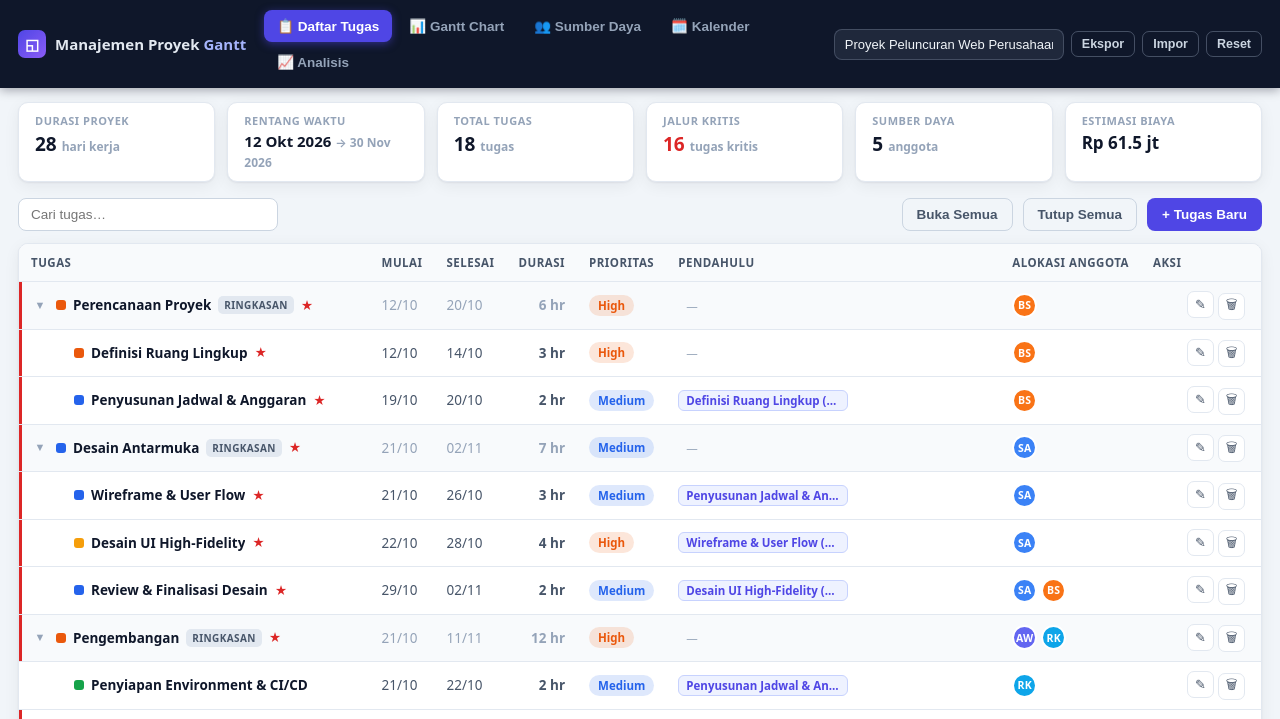
Test: App (smoke) › CRUD tugas: menambah tugas baru tersimpan ke localStorage
This screenshot has width=1280, height=719.
Click the button "+ Tugas Baru" at (1205, 214), box [1147,198,1262,231]
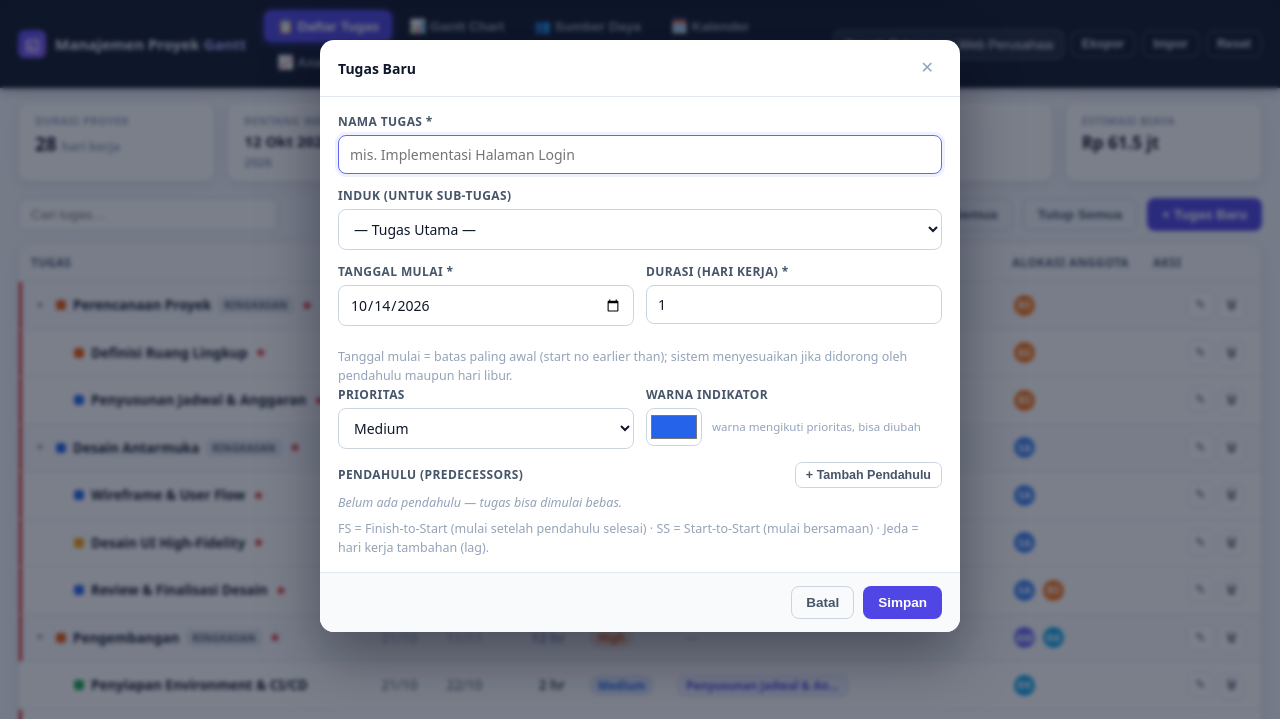
Type "Tugas Smoke Test" into the field labelled "Nama Tugas *" at (640, 154), box [338,135,942,174]
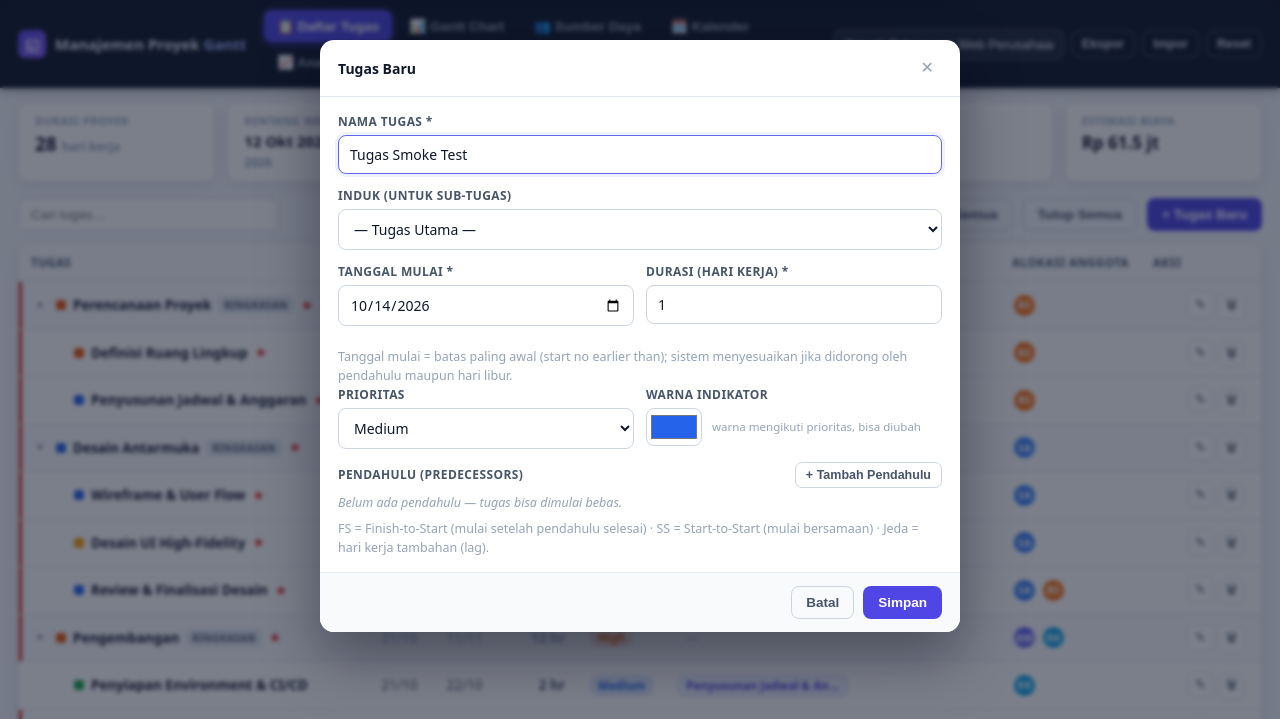
Replace the text in the number field labelled "Durasi (hari kerja) *" with "4" at (794, 304), box [646,285,942,324]
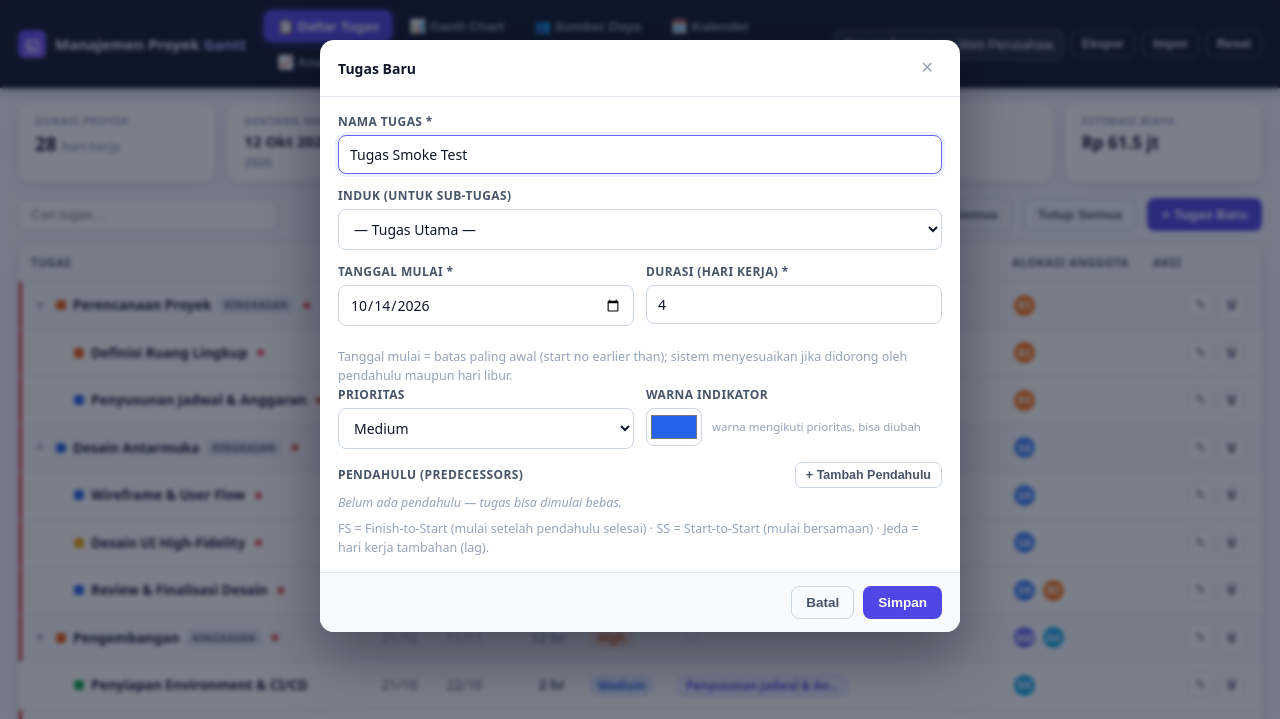
Click the button "Simpan" at (903, 603), box [863,586,942,619]
(page scrolled)
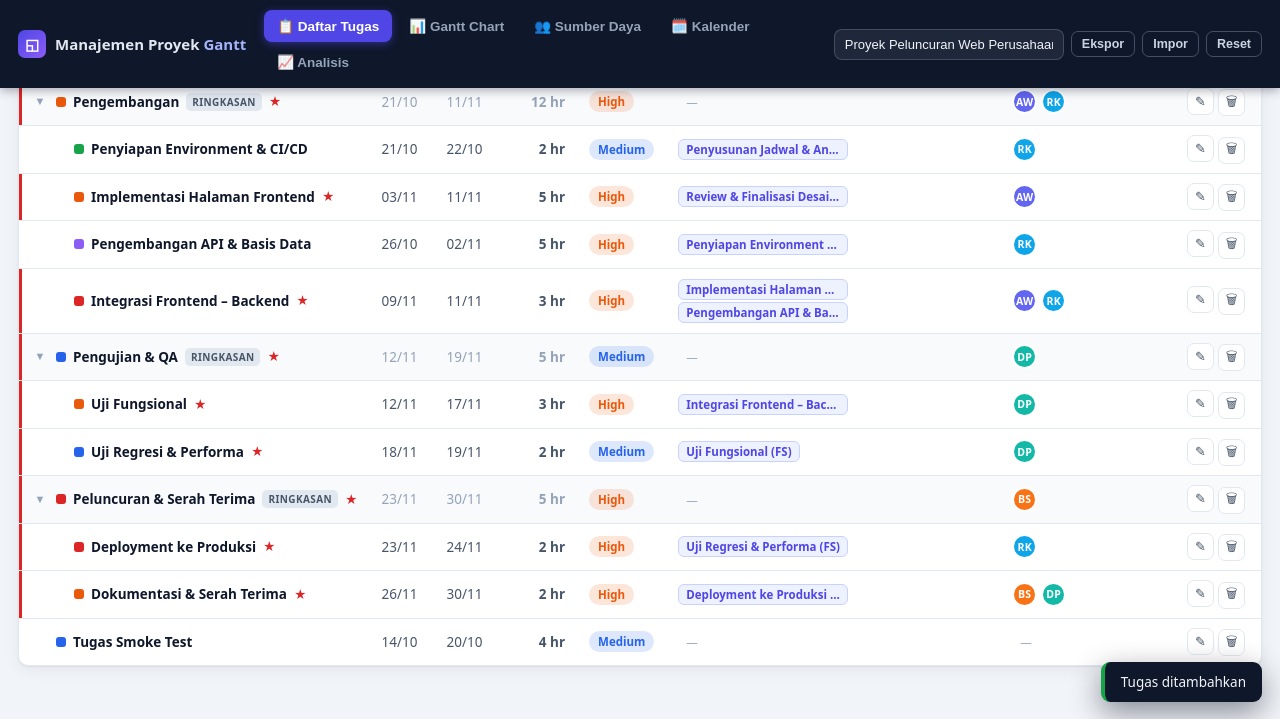
Now the text "Tugas Smoke Test" is shown, box [73,633,192,651]
